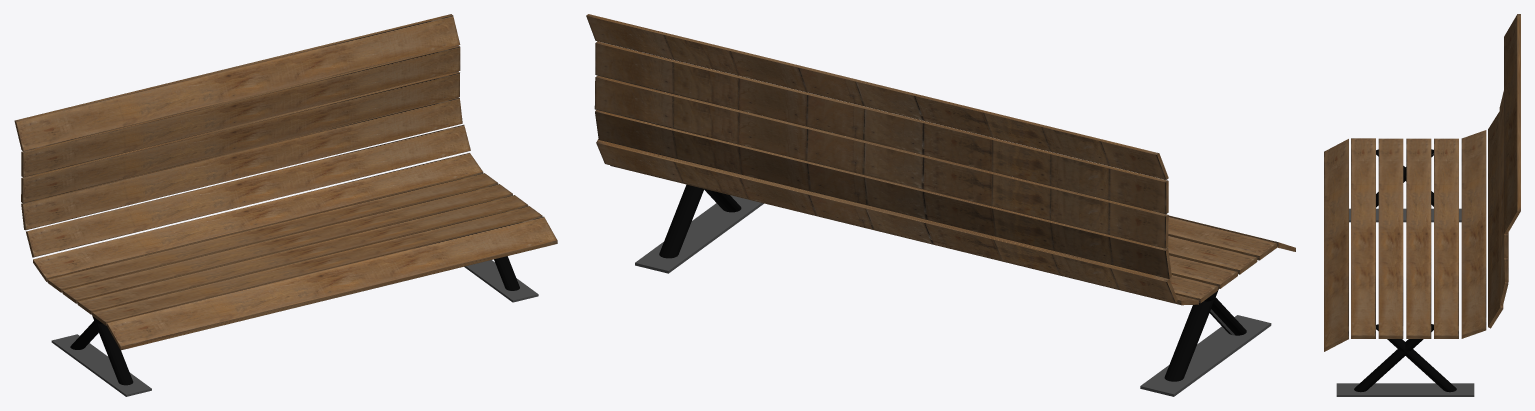
Rendered from BancoPlaza.glb.
3 views of the same model, side by side, from view 1: azimuth 30°, elevation 25°; view 2: azimuth 150°, elevation 25°; view 3: azimuth 270°, elevation 25° (orthographic). The views are drawn at different scales.
Visible parts, largest first — view 1: Asiento, Soportes; view 2: Asiento, Soportes; view 3: Asiento, Soportes.
Boxes of the visible parts, bbox=[...] form: Asiento: bbox=[14, 14, 557, 350]; Soportes: bbox=[51, 256, 538, 396]; Asiento: bbox=[586, 14, 1295, 305]; Soportes: bbox=[635, 184, 1271, 396]; Asiento: bbox=[1324, 14, 1520, 351]; Soportes: bbox=[1336, 149, 1474, 396].
Size of the model in its own units: 6.81 by 3.06 by 2.86.
3 materials, 1 textured.
